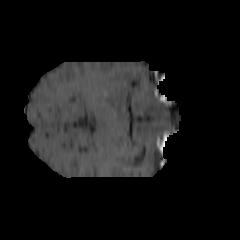glioma: (74, 73, 141, 128)
